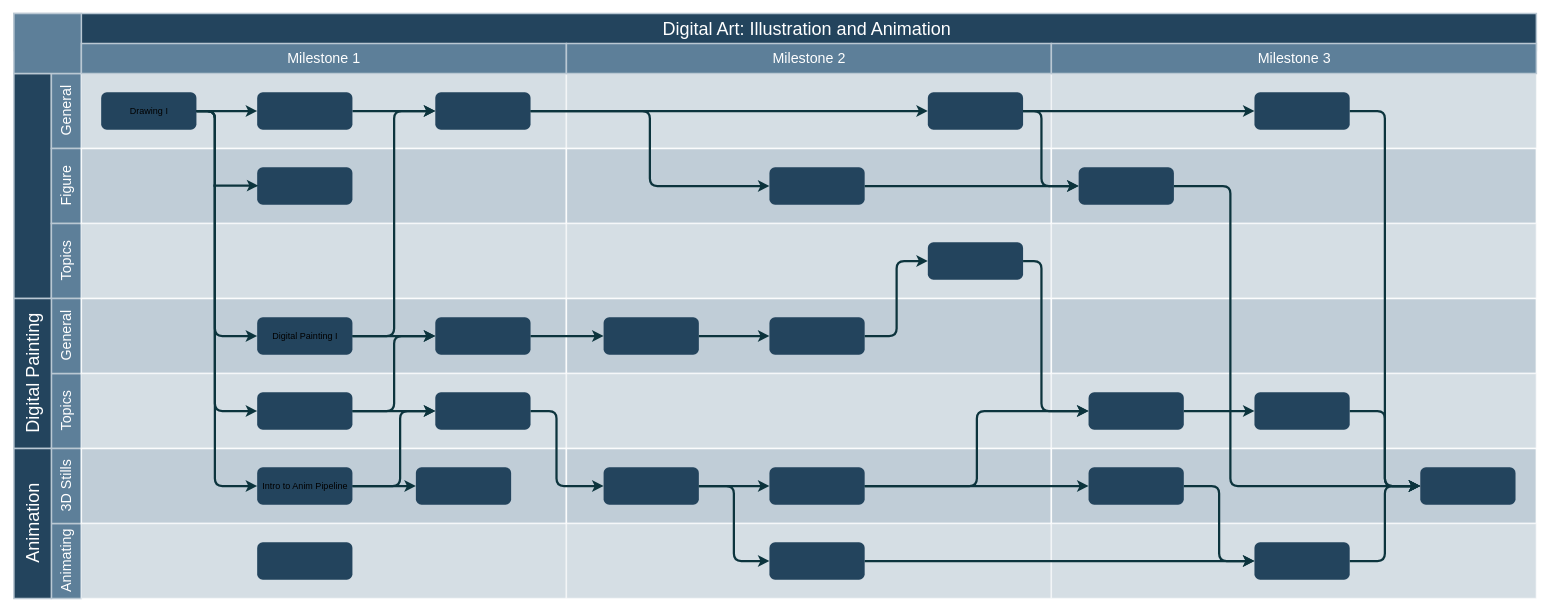
Image size: 1550x612. Some labels were removed from this diagram. Each missing label, with the centre of its shape:
Drawing Foundation: the point at 32,185
Drawing II: the point at 482,110
Figure Drawing I: the point at 304,185
Intro to 3D Art: the point at 463,485
Intro to Shaders: the point at 304,560
Portfolio Planning: the point at 304,110
v 1.0: the point at 47,43
